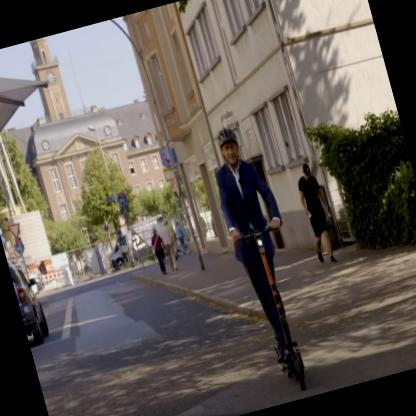helmet: (215, 125, 247, 171)
human: (214, 123, 284, 340)
kickboard: (271, 335, 314, 398)
